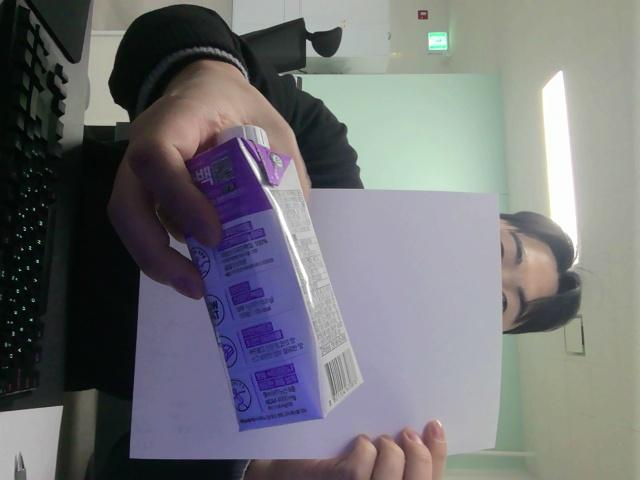milk: (185, 125, 362, 429)
